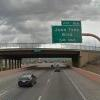Bridge: (4, 38, 95, 66)
